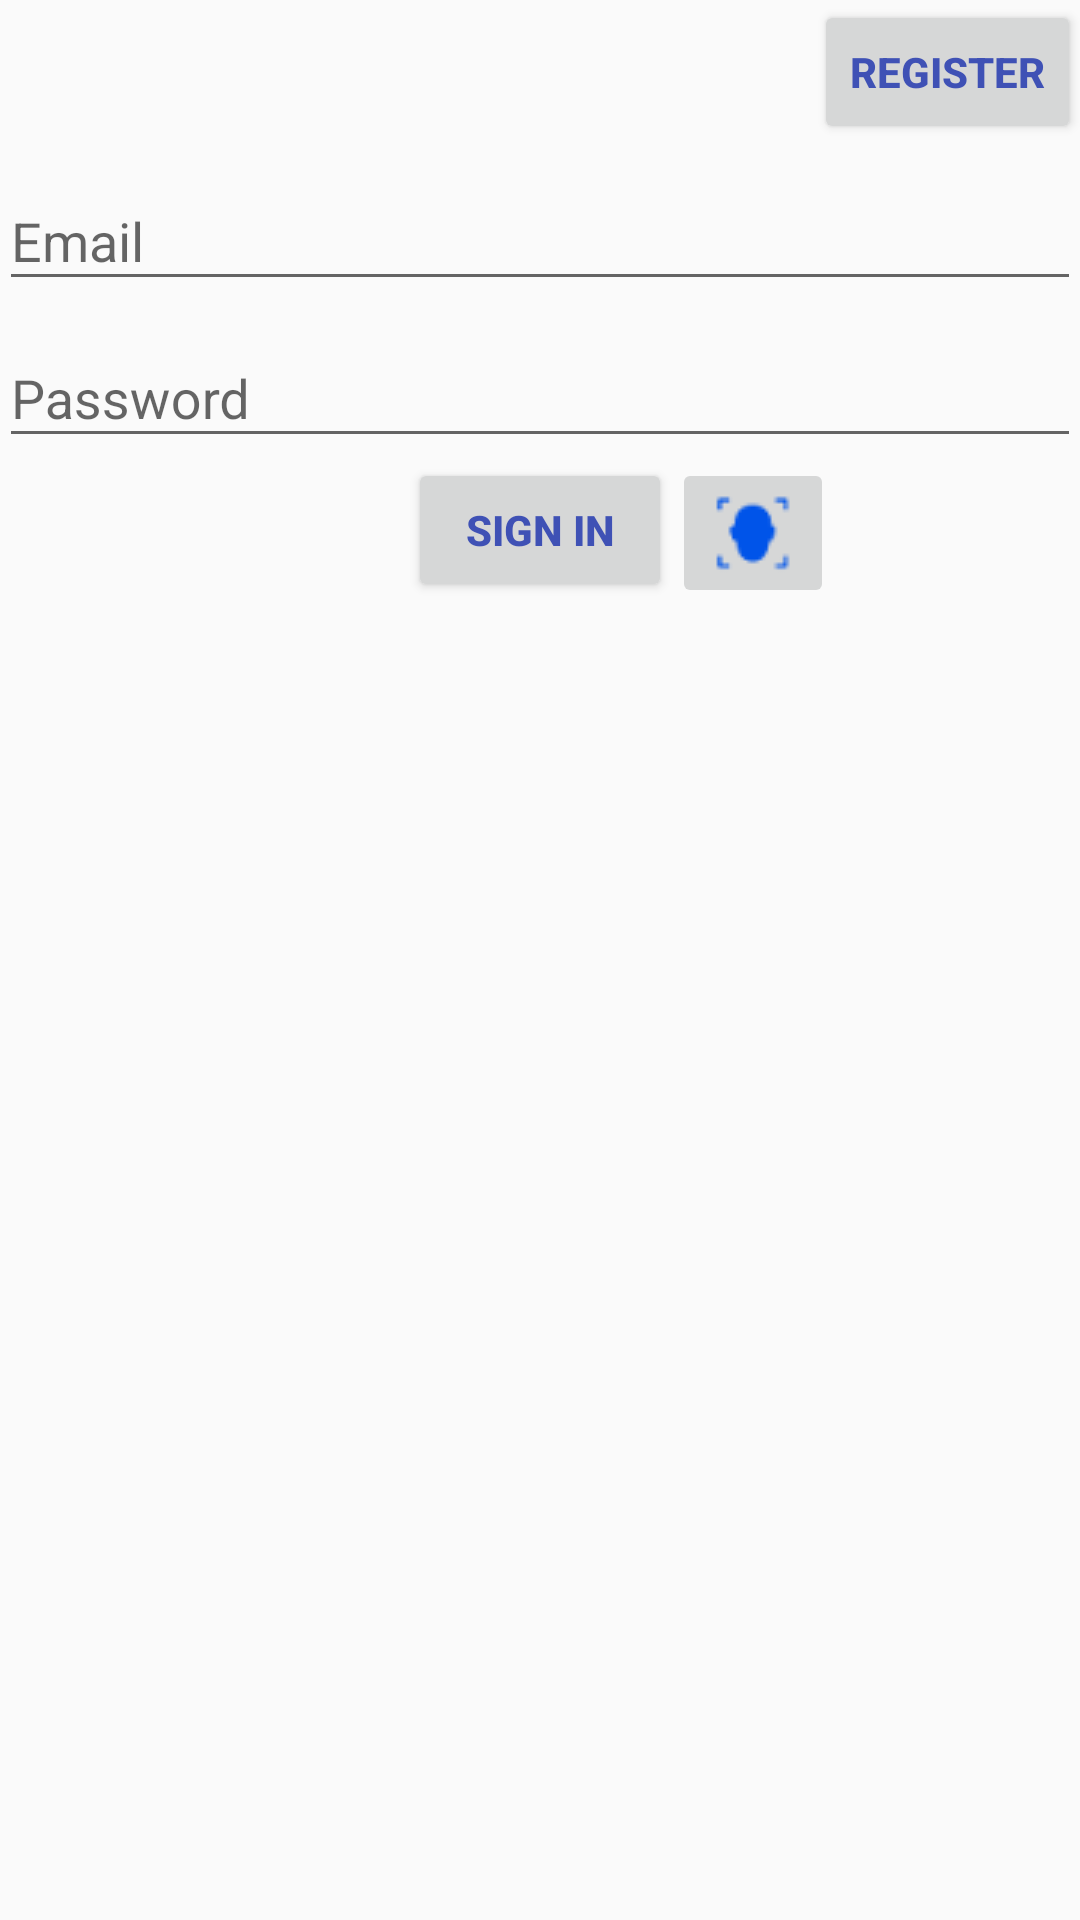

Where to tap for icons on this 1080px×1920px app screen, as (x=x, y=y):
icon for bionetric recognetion: (x=753, y=533)
